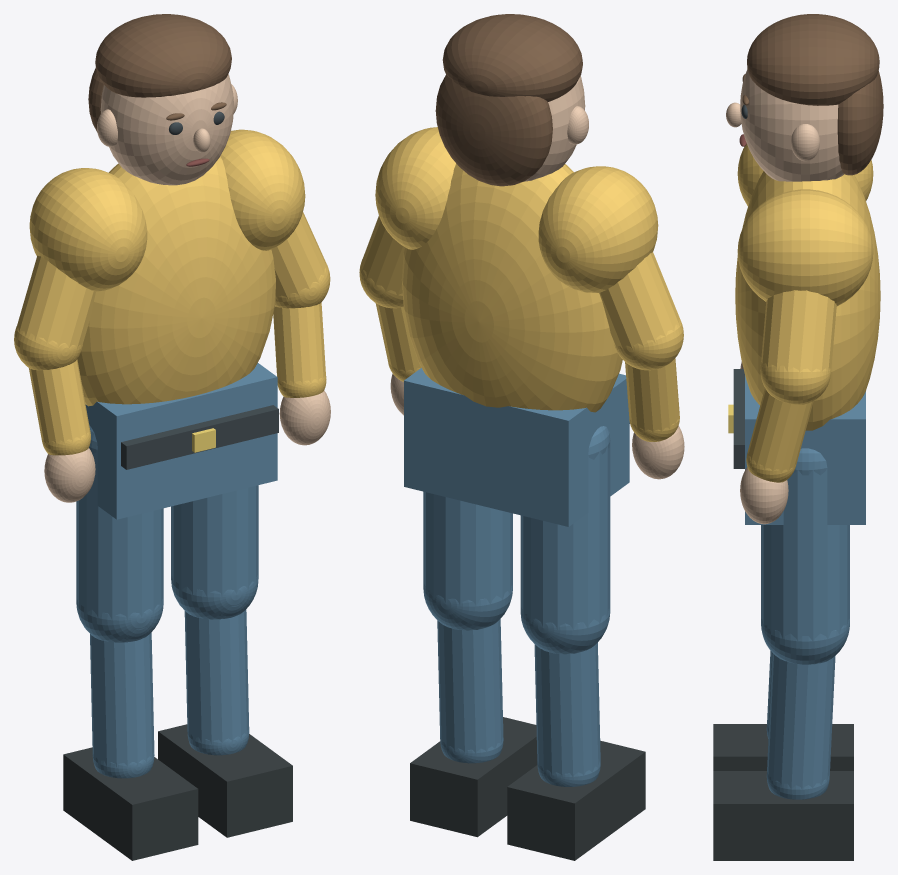
File: npc_child.glb
3 views of the same model, side by side, from view 1: azimuth 30°, elevation 25°; view 2: azimuth 150°, elevation 25°; view 3: azimuth 270°, elevation 25° (orthographic). The views are drawn at different scales.
Parts seen in each view (by area): view 1: torso_base, pelvis, shoulder_left, left_boot, left_trouser_upper, hair_cap, head, right_boot, right_trouser_upper, left_trouser_lower, right_trouser_lower, shoulder_right (+17 smaller); view 2: torso_base, pelvis, shoulder_left, left_trouser_upper, left_boot, hair_cap, hair_back, right_boot, right_trouser_upper, left_trouser_lower, right_trouser_lower, shoulder_right (+13 smaller); view 3: shoulder_right, right_trouser_upper, right_boot, torso_base, hair_cap, right_trouser_lower, head, pelvis, right_upper_arm, left_boot, right_forearm, hair_back (+9 smaller).
Boxes of the visible parts, x1=… form: torso_base: x1=77, y1=156, x2=275, y2=406; pelvis: x1=85, y1=363, x2=277, y2=519; shoulder_left: x1=29, y1=168, x2=147, y2=291; left_boot: x1=63, y1=747, x2=198, y2=860; left_trouser_upper: x1=76, y1=451, x2=163, y2=620; hair_cap: x1=95, y1=14, x2=231, y2=97; head: x1=100, y1=74, x2=233, y2=185; right_boot: x1=158, y1=724, x2=292, y2=837; right_trouser_upper: x1=171, y1=485, x2=258, y2=597; left_trouser_lower: x1=90, y1=632, x2=154, y2=767; right_trouser_lower: x1=184, y1=609, x2=249, y2=744; shoulder_right: x1=220, y1=129, x2=305, y2=250; torso_base: x1=401, y1=163, x2=622, y2=412; pelvis: x1=404, y1=368, x2=629, y2=526; shoulder_left: x1=538, y1=166, x2=658, y2=292; left_trouser_upper: x1=520, y1=441, x2=610, y2=630; left_boot: x1=507, y1=740, x2=645, y2=860; hair_cap: x1=442, y1=14, x2=582, y2=101; hair_back: x1=435, y1=74, x2=552, y2=186; right_boot: x1=410, y1=717, x2=537, y2=837; right_trouser_upper: x1=423, y1=491, x2=512, y2=606; left_trouser_lower: x1=534, y1=642, x2=600, y2=777; right_trouser_lower: x1=437, y1=619, x2=503, y2=754; shoulder_right: x1=375, y1=127, x2=455, y2=249; shoulder_right: x1=737, y1=189, x2=873, y2=306; right_trouser_upper: x1=761, y1=468, x2=849, y2=641; right_boot: x1=713, y1=771, x2=853, y2=860; torso_base: x1=735, y1=171, x2=880, y2=430; hair_cap: x1=747, y1=14, x2=879, y2=105; right_trouser_lower: x1=766, y1=653, x2=835, y2=789; head: x1=740, y1=69, x2=843, y2=181; pelvis: x1=745, y1=375, x2=865, y2=524; right_upper_arm: x1=761, y1=290, x2=836, y2=374; left_boot: x1=713, y1=724, x2=853, y2=770; right_forearm: x1=747, y1=388, x2=813, y2=472; hair_back: x1=837, y1=71, x2=883, y2=175.
Bounding box in the file's own units: 0.6108 × 1.49 × 0.2878.
